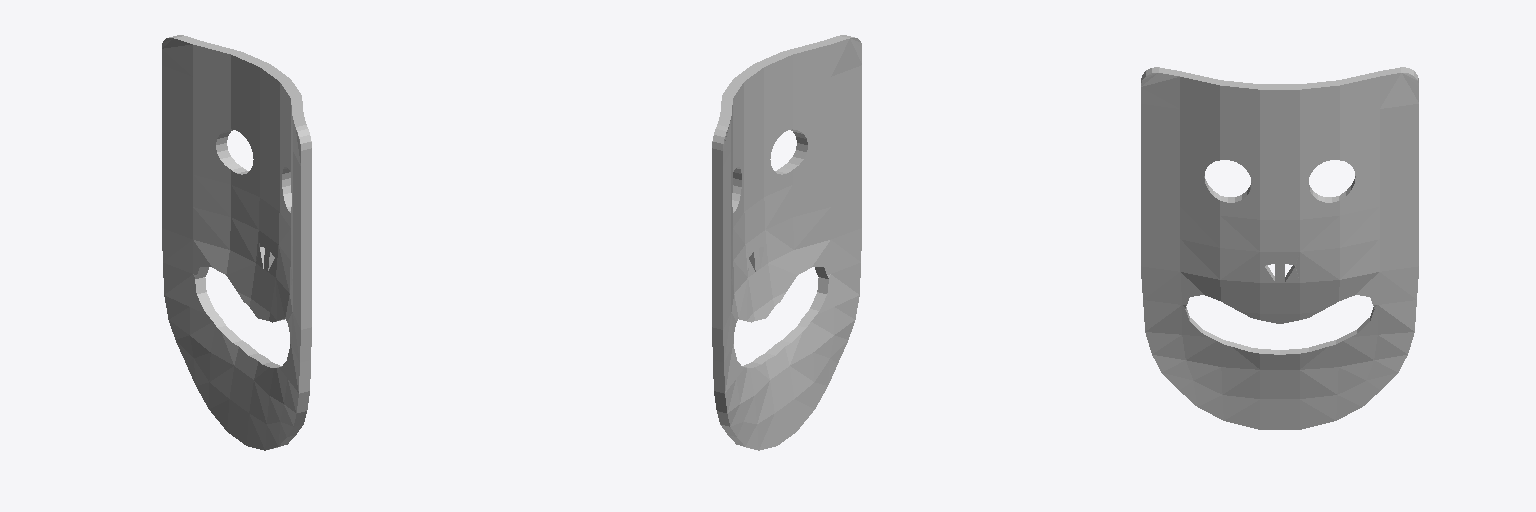
The model's file is happyMask.obj.
3 views of the same model, side by side, from view 1: azimuth 30°, elevation 25°; view 2: azimuth 150°, elevation 25°; view 3: azimuth 270°, elevation 25° (orthographic).
Size of the model in its own units: 1.21 by 8.32 by 5.89.